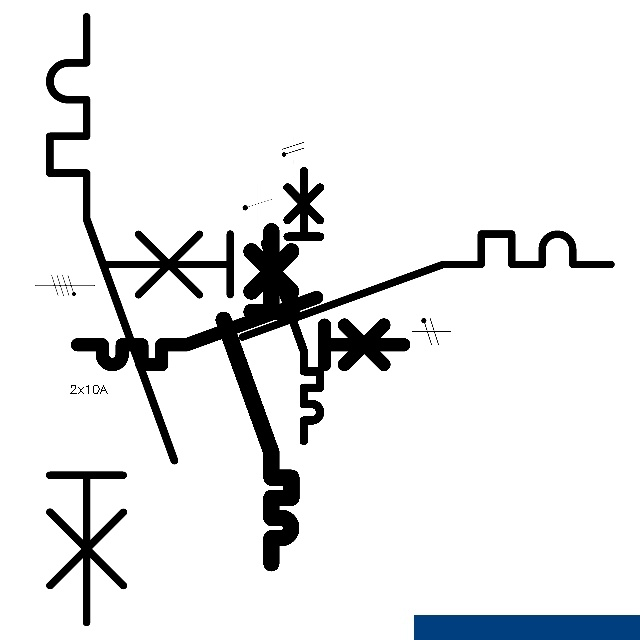interruptor_termomagnetico: (34, 1, 190, 638), (94, 221, 623, 350), (215, 222, 300, 571), (69, 289, 412, 373), (258, 164, 327, 448)
